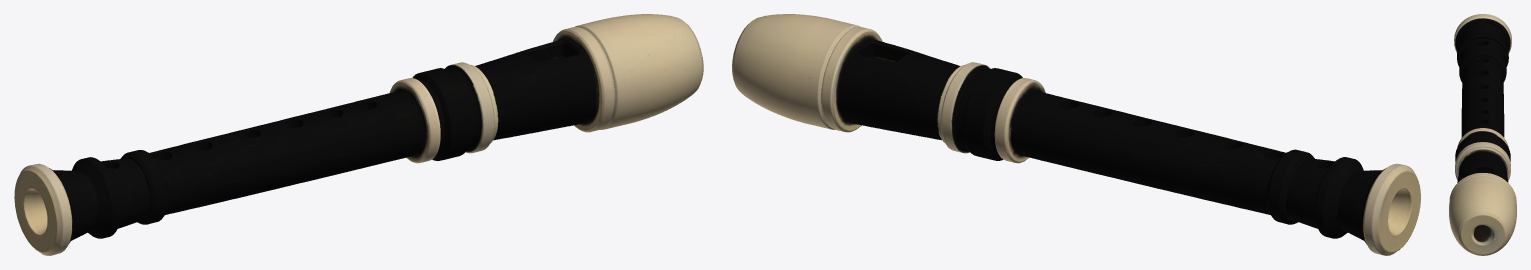
Rendered from recorder.glb.
3 renders of one model, left to right at view 1: azimuth 30°, elevation 25°; view 2: azimuth 150°, elevation 25°; view 3: azimuth 270°, elevation 25°, orthographic. The views are drawn at different scales.
Parts seen in each view (by area): view 1: texture_pbr_v128; view 2: texture_pbr_v128; view 3: texture_pbr_v128.
Boxes of the visible parts, <box> form: texture_pbr_v128: <box>14,14,703,255</box>; texture_pbr_v128: <box>732,14,1420,255</box>; texture_pbr_v128: <box>1449,14,1516,255</box>.
Bounding box in the file's own units: 1.16 × 0.1653 × 0.1704.
Materials: 1 (1 with a texture image).
